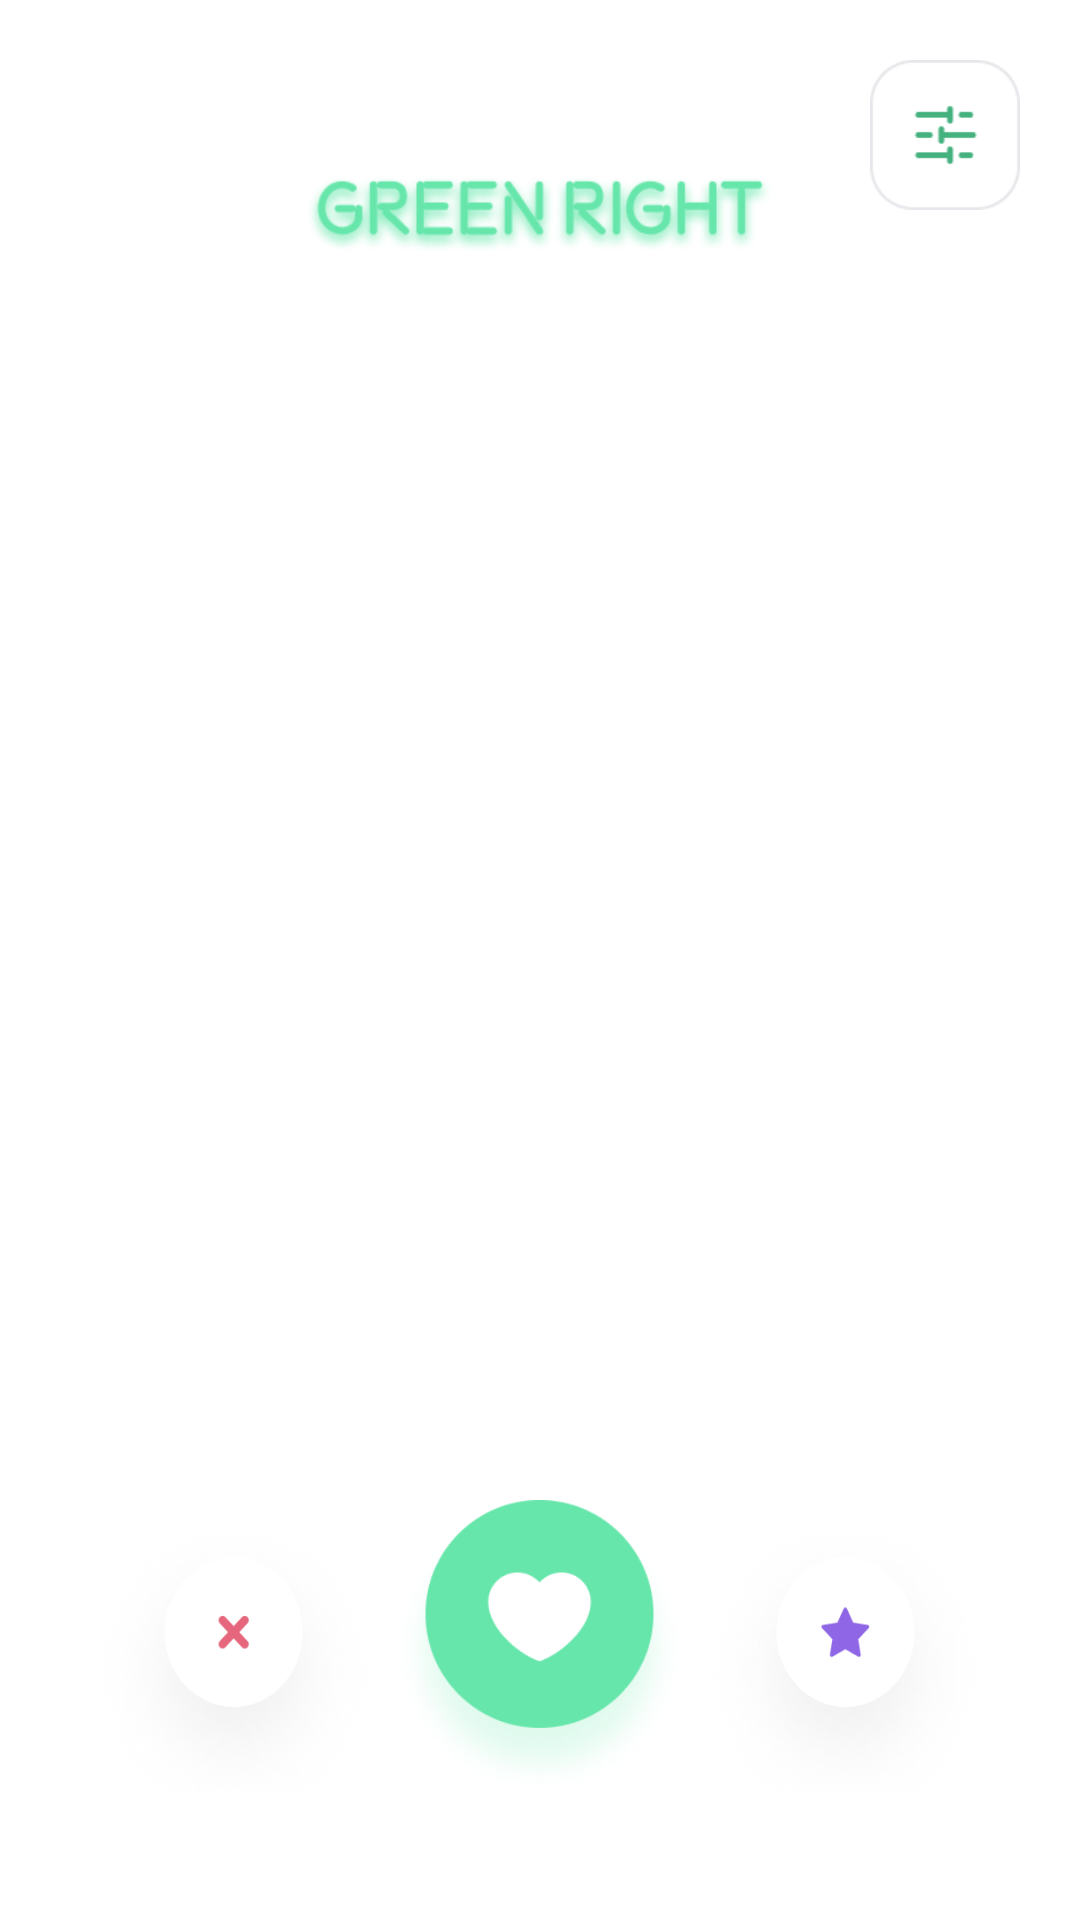

Screen size 1080x1920. Icon name, then its center in pixels as (x=x, y=y):
filter: (x=945, y=135)
